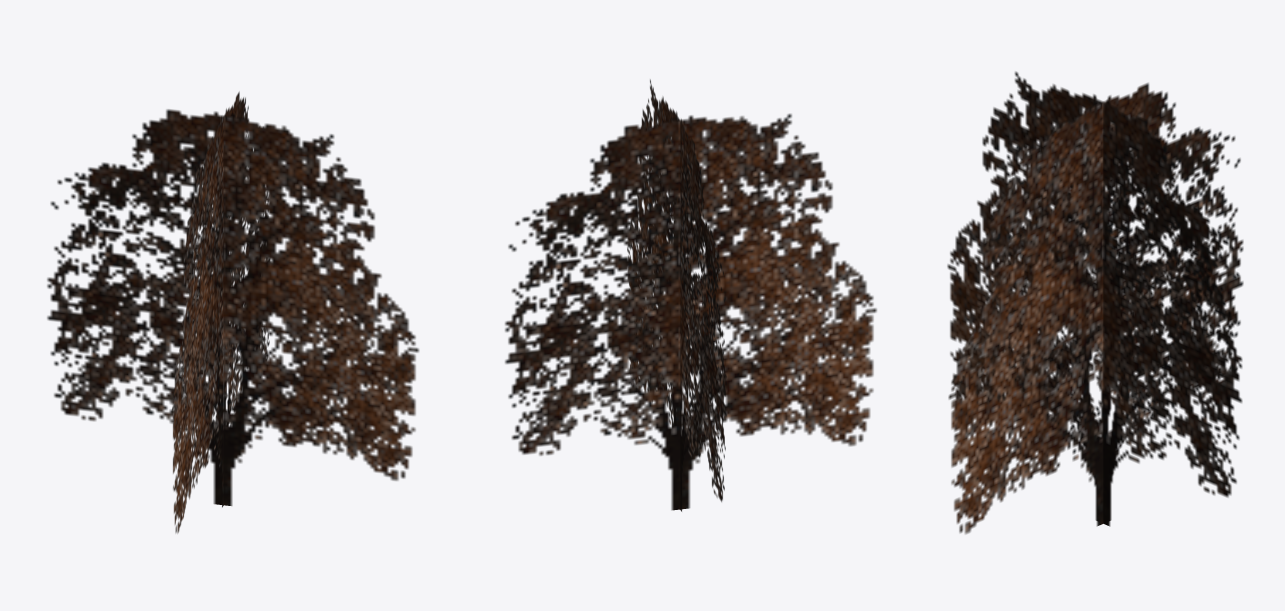
Rendered from tree012.glb.
3 renders of one model, left to right at view 1: azimuth 30°, elevation 25°; view 2: azimuth 150°, elevation 25°; view 3: azimuth 270°, elevation 25°, orthographic. The views are drawn at different scales.
Parts seen in each view (by area): view 1: tree012; view 2: tree012; view 3: tree012.
Part boxes in pixels (x1=…): tree012: x1=47, y1=91, x2=419, y2=533; tree012: x1=505, y1=79, x2=876, y2=511; tree012: x1=947, y1=71, x2=1243, y2=534.
Bounding box in the file's own units: 2.18 × 3.1 × 2.14.
1 material, 1 textured.
